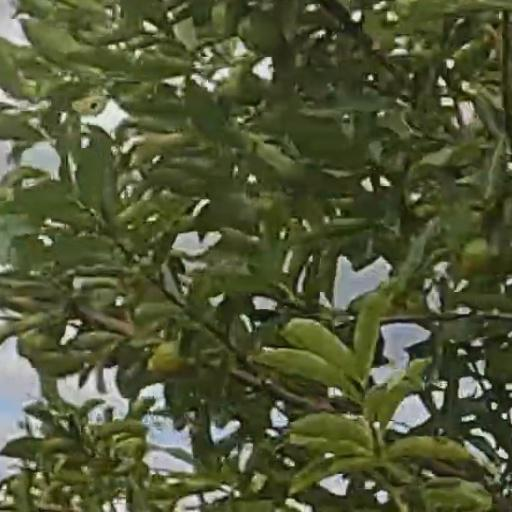acerola_verde: (153, 343, 183, 375), (465, 237, 489, 275)
